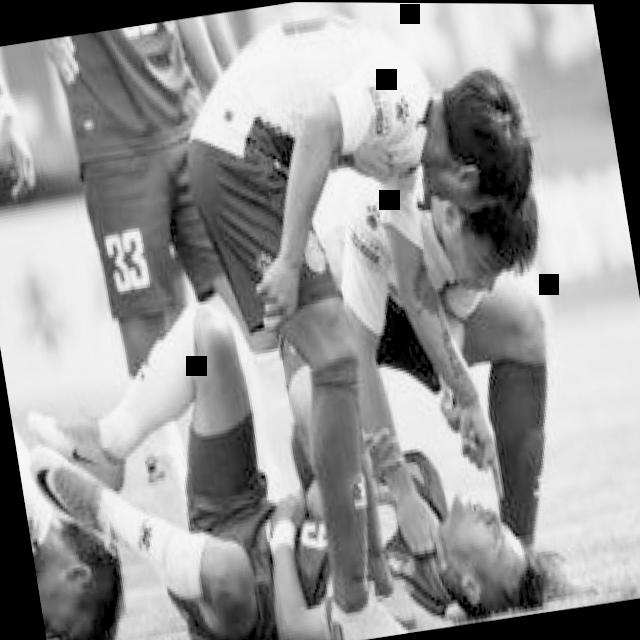Fall-Detected: (0, 324, 141, 640)
